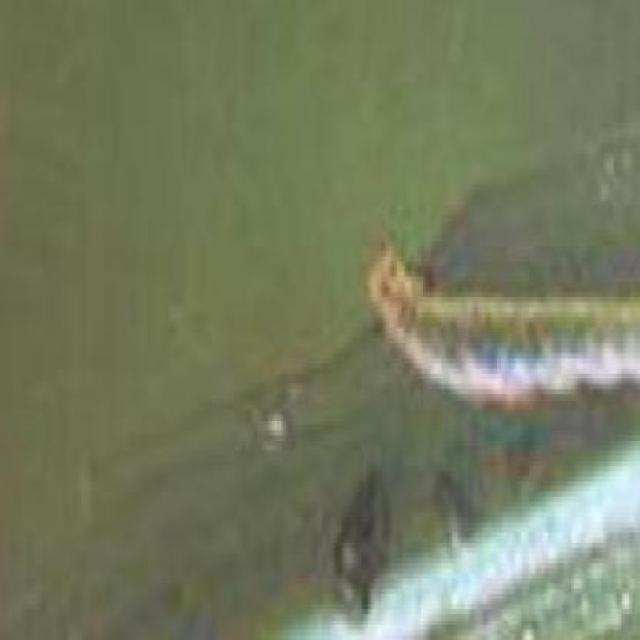leaf-folder: (363, 217, 640, 449)
